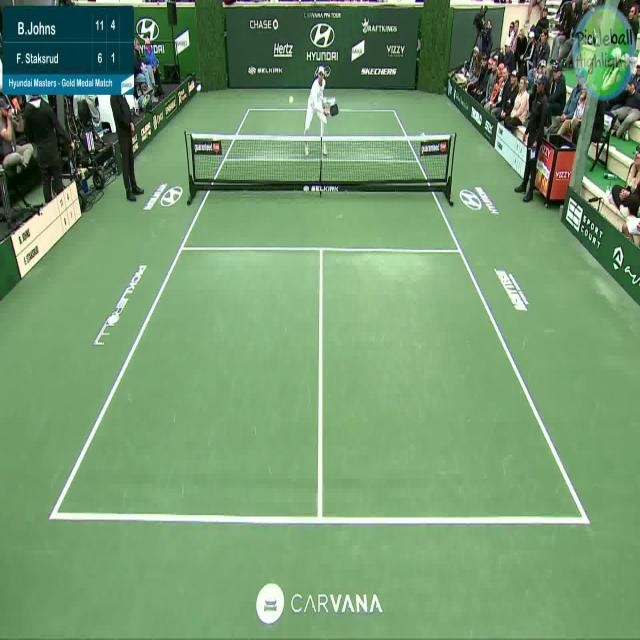Court: (54, 109, 588, 519)
ball: (286, 94, 297, 107)
